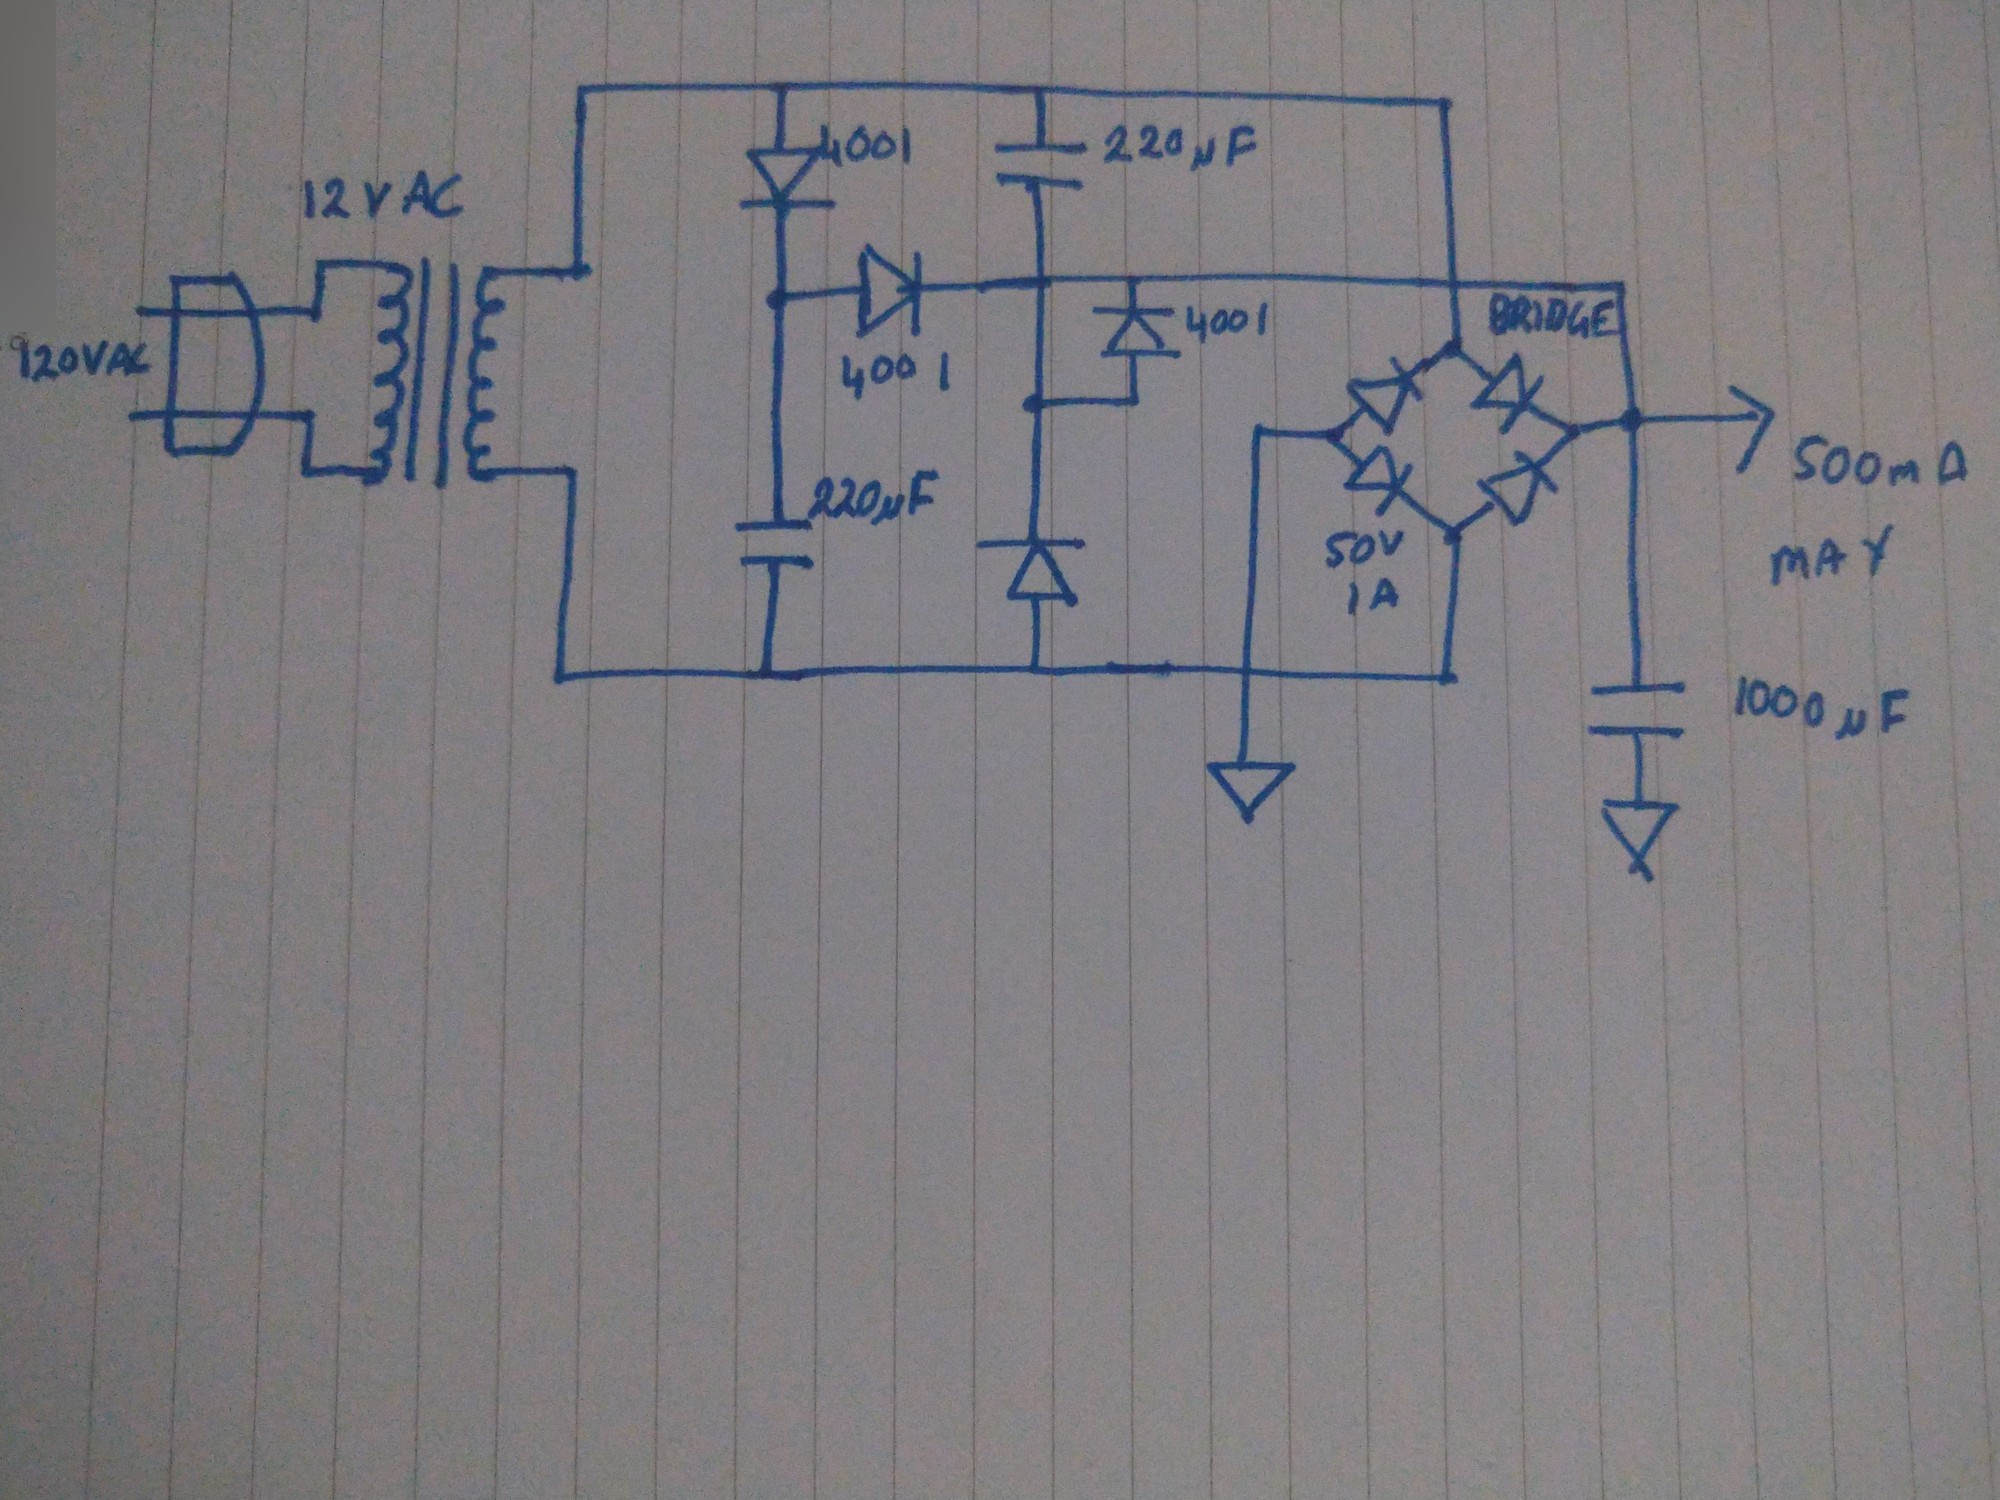capacitor.unpolarized: (1580, 674, 1699, 744), (991, 137, 1091, 192), (731, 515, 817, 574)
crossover: (1443, 273, 1468, 295), (1231, 662, 1258, 682), (1031, 273, 1050, 295)
diode: (972, 534, 1090, 610), (1476, 446, 1564, 529), (849, 249, 926, 342), (1342, 351, 1425, 436), (735, 143, 838, 213), (1468, 351, 1548, 435), (1342, 443, 1417, 518), (1088, 303, 1183, 359)
junction: (1619, 407, 1646, 436), (1020, 391, 1049, 418), (765, 287, 794, 314), (1439, 337, 1466, 362), (1323, 422, 1348, 447), (1435, 666, 1460, 690), (1444, 522, 1468, 545), (1121, 266, 1145, 288), (1562, 421, 1584, 443), (754, 663, 776, 685), (569, 262, 592, 282), (1249, 419, 1269, 441), (1433, 93, 1457, 112), (551, 666, 570, 690), (1121, 391, 1142, 411), (772, 79, 792, 99), (1024, 660, 1044, 681), (299, 407, 320, 425), (1031, 80, 1050, 98), (1609, 277, 1627, 296), (562, 462, 580, 481), (306, 304, 324, 321), (313, 255, 331, 273), (573, 80, 589, 98), (299, 462, 317, 477)
socket: (161, 269, 277, 459)
terminal: (1597, 796, 1685, 886), (1205, 759, 1298, 829), (1721, 384, 1776, 474), (126, 296, 161, 325), (118, 403, 151, 430)
text: (1723, 674, 1909, 744), (1791, 433, 1973, 492), (1767, 518, 1896, 589), (299, 170, 465, 224), (1099, 121, 1260, 173), (806, 466, 945, 525), (16, 336, 154, 384), (1487, 291, 1617, 340), (838, 351, 954, 403), (817, 121, 915, 172), (1183, 299, 1272, 343), (1324, 528, 1405, 572), (1346, 580, 1402, 622)
transformer: (362, 254, 509, 493)
